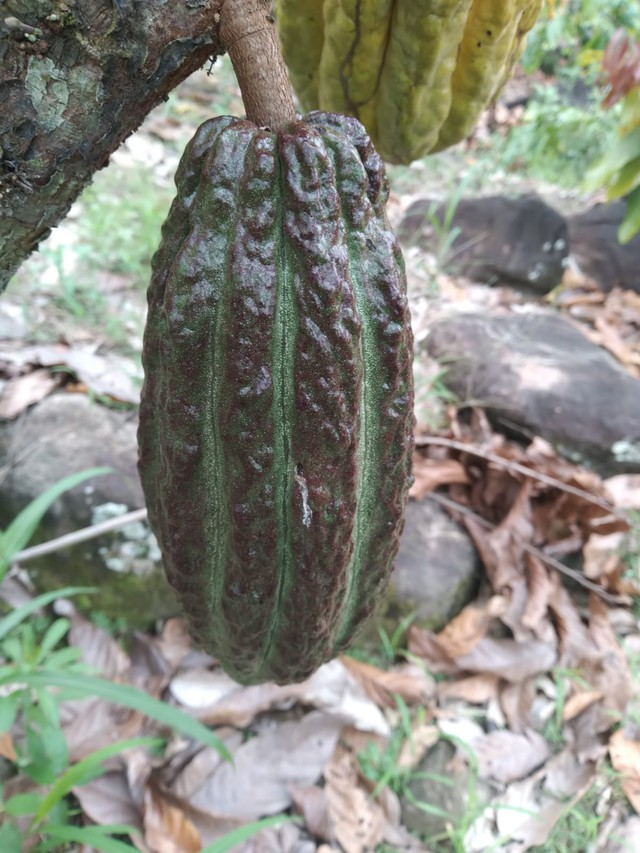Health: (122, 100, 428, 693)
